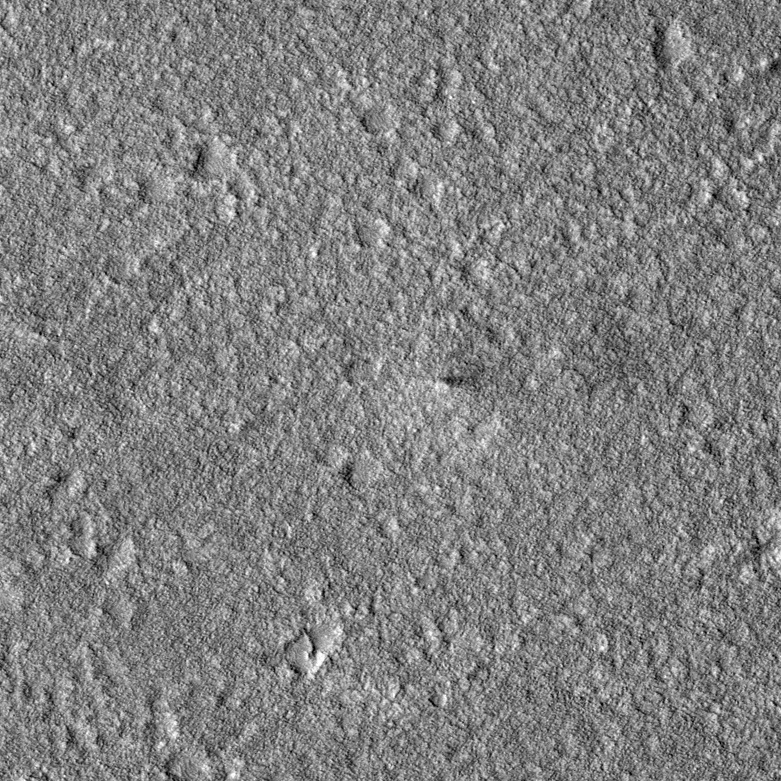dust_devil: (431, 374, 482, 396)
